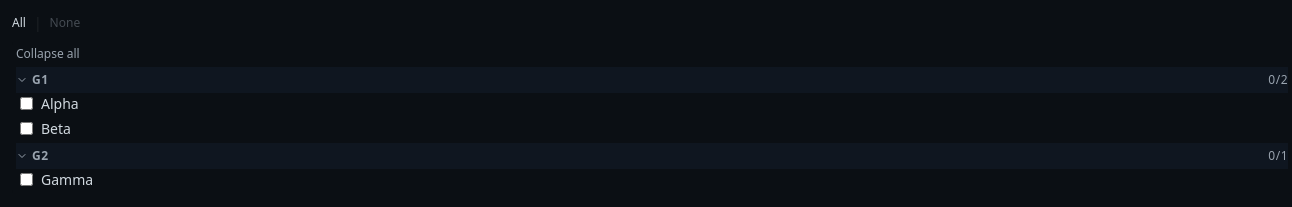
CheckboxGroup — grouped layout › Expand all / Collapse all toggles all sections
Click the button "Collapse all": [48, 54] box 16,45 -> 1288,63
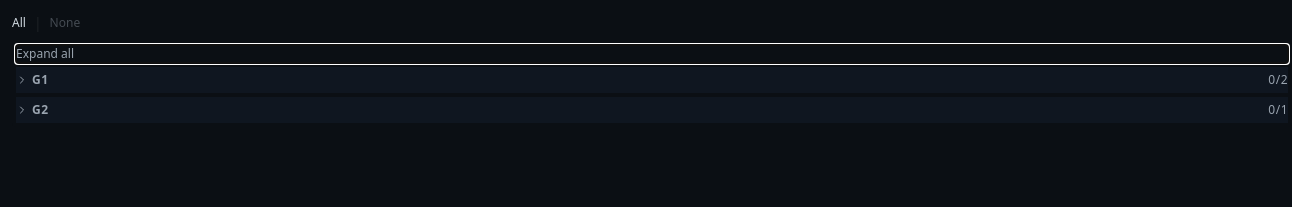
Expected: the text "Alpha" is gone
Expected: the text "Gamma" is gone
Click the button "Expand all": [45, 54] box 16,45 -> 1288,63
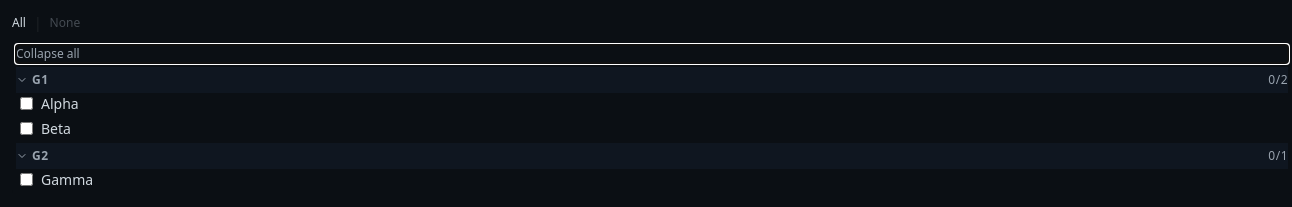
Expected: the text "Alpha" is shown, 41,93 -> 79,114
Expected: the text "Gamma" is shown, 41,169 -> 93,190
